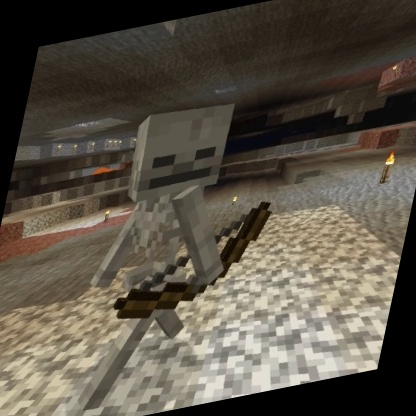skeleton: (56, 80, 302, 416)
